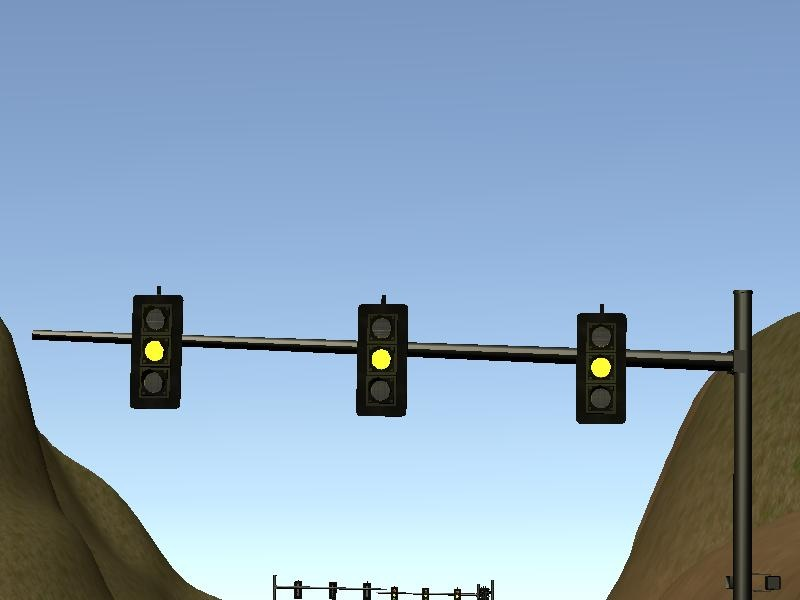YELLOW: (351, 296, 409, 421), (572, 303, 627, 427), (127, 288, 182, 412)
